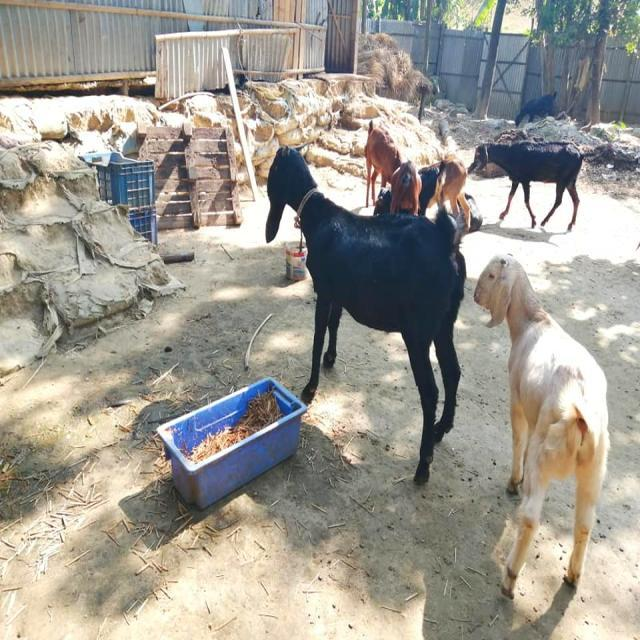Goat: (264, 142, 467, 484), (472, 252, 610, 600), (467, 139, 584, 232), (422, 156, 471, 233), (364, 118, 401, 207), (513, 90, 557, 127)
